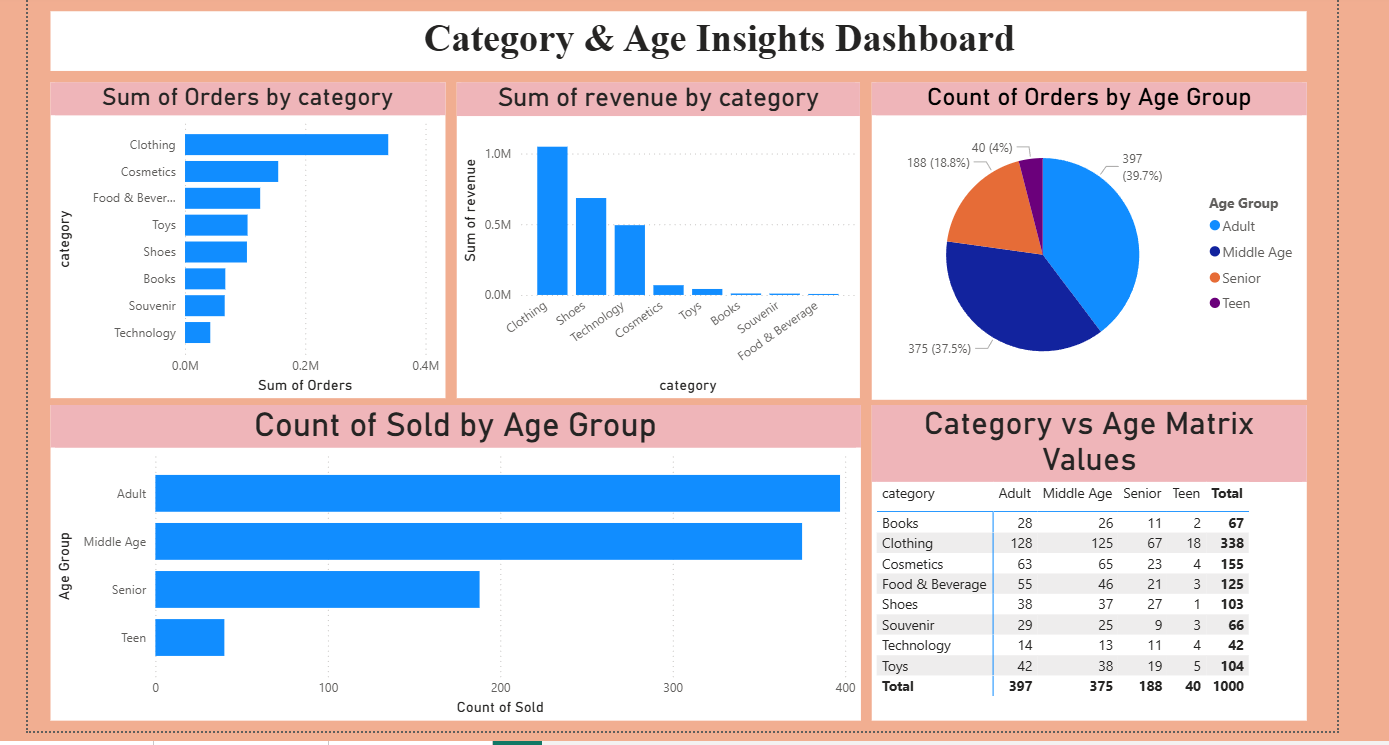

The dashboard page shown, as its layout file describes it:
{"tool":"powerbi","page":{"name":"Category and Age","canvas":[1280,720],"ordinal":1},"visuals":[{"type":"barChart","fields":{"Category":["proj1.category"],"Y":["Sum(proj1.Orders)"]},"box":[21.7,85.7,386.1,308.8],"z":0},{"type":"clusteredColumnChart","fields":{"Category":["proj1.category"],"Y":["Sum(proj1.revenue)"]},"box":[419.8,85.7,394.5,308.8],"z":1000},{"type":"pieChart","fields":{"Category":["proj1.Age Group"],"Y":["CountNonNull(proj1.Orders)"]},"box":[825.2,85.7,425.9,310.1],"z":2000},{"type":"clusteredBarChart","fields":{"Y":["CountNonNull(proj1.Sold)"],"Category":["proj1.Age Group"]},"box":[21.7,400.5,792.6,308.8],"z":3000},{"type":"pivotTable","title":"Category vs Age Matrix Values","fields":{"Columns":["proj1.Age Group"],"Rows":["proj1.category"],"Values":["CountNonNull(proj1.Orders)"]},"box":[825.2,400.5,425.9,308.8],"z":4000},{"type":"textbox","box":[22,15.9,1228.9,58.7],"z":5000}]}

Visuals, with their boxes on the page's 1280x720 design canvas (x1, y1, x2, y2). These are canvas units, not pixel positions in the 1389x745 screenshot, which may show the page scaled, cropped or inside an application window:
barChart - proj1.category x Sum(proj1.Orders): pyautogui.locateOnScreen(22, 86, 408, 394)
clusteredColumnChart - proj1.category x Sum(proj1.revenue): pyautogui.locateOnScreen(420, 86, 814, 394)
pieChart - proj1.Age Group x CountNonNull(proj1.Orders): pyautogui.locateOnScreen(825, 86, 1251, 396)
clusteredBarChart - CountNonNull(proj1.Sold) x proj1.Age Group: pyautogui.locateOnScreen(22, 400, 814, 709)
"Category vs Age Matrix Values" pivotTable: pyautogui.locateOnScreen(825, 400, 1251, 709)
textbox: pyautogui.locateOnScreen(22, 16, 1251, 75)
